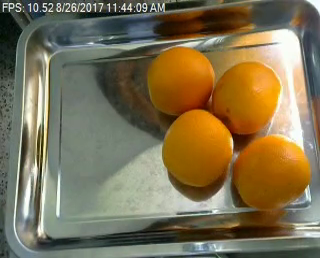Orange: (233, 137, 313, 210), (162, 107, 234, 186), (211, 61, 283, 134), (146, 46, 215, 115)
